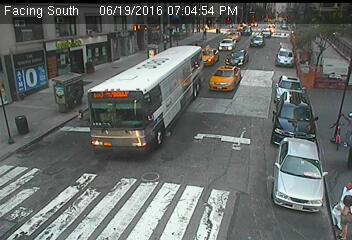neg: (227, 115, 257, 155), (23, 52, 47, 83), (135, 166, 157, 195), (282, 107, 304, 136), (170, 119, 191, 148), (58, 166, 79, 195), (124, 95, 144, 122), (42, 117, 62, 144), (282, 175, 301, 200), (270, 49, 288, 74), (313, 59, 331, 83), (97, 34, 115, 58), (60, 73, 76, 95), (168, 36, 183, 56), (217, 68, 230, 86)
